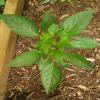Bell_pepper leaf: (60, 8, 96, 38), (1, 13, 40, 38), (41, 63, 64, 93), (63, 52, 95, 71), (7, 50, 42, 66), (39, 11, 58, 33), (70, 37, 100, 50)
